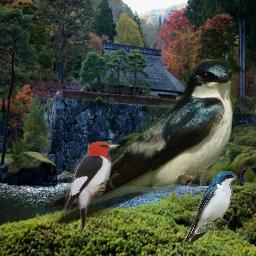Swallow: (45, 59, 237, 228), (183, 171, 237, 245)
Woodpecker: (63, 141, 120, 234)
